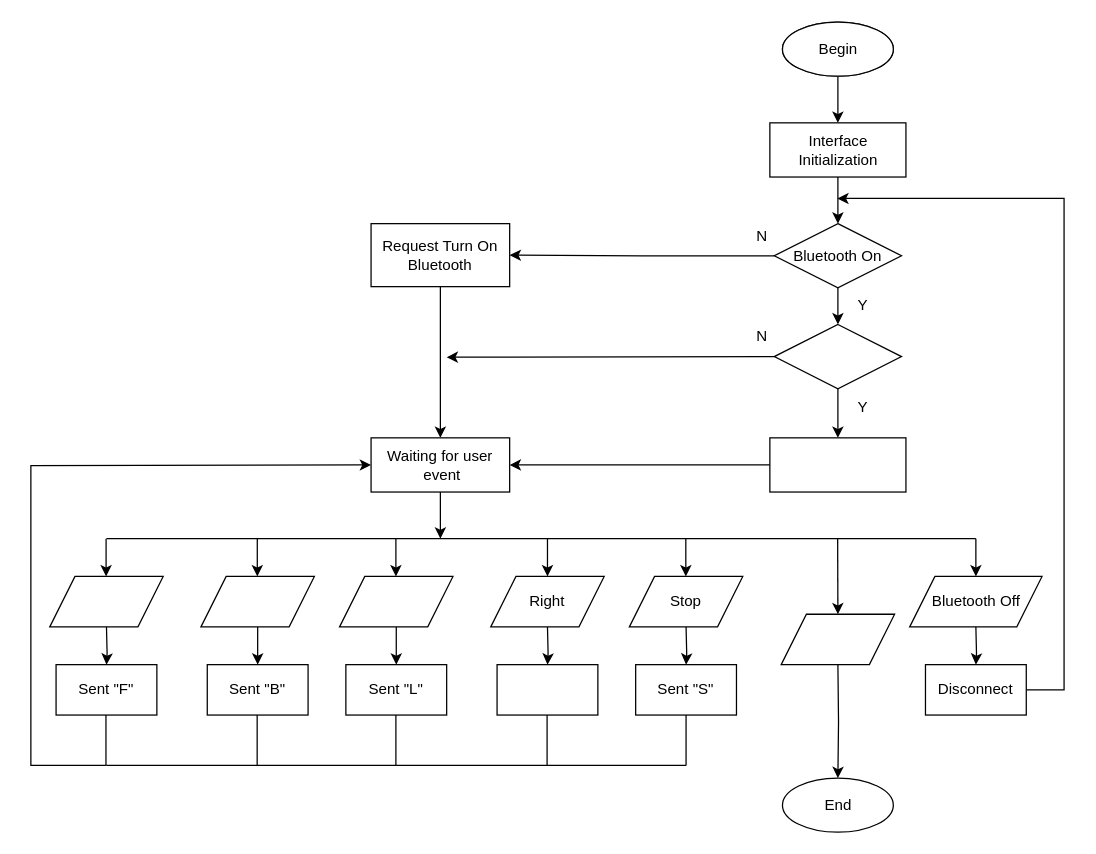
Image size: 1096x854. Some labels were removed from this diagram. Each missing label, with the centre of its shape:
Down: pixel 257 601
Exit: pixel 837 639
Left: pixel 395 601
Scan Car: pixel 837 356
Sent "R": pixel 547 689
Switch to Control Interface: pixel 837 464
Up: pixel 106 601
